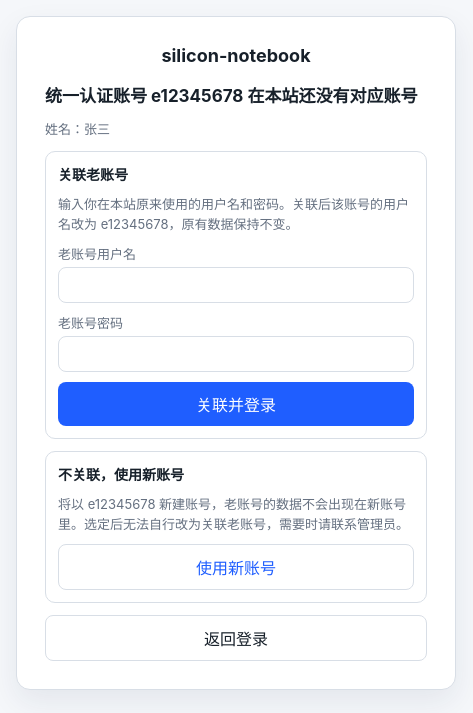
Test: link: the button shows progress and every action is locked while it runs
Type "a12345678" into the field labelled "老账号用户名" at (236, 285), box top-left (58, 267), bottom-right (414, 303)
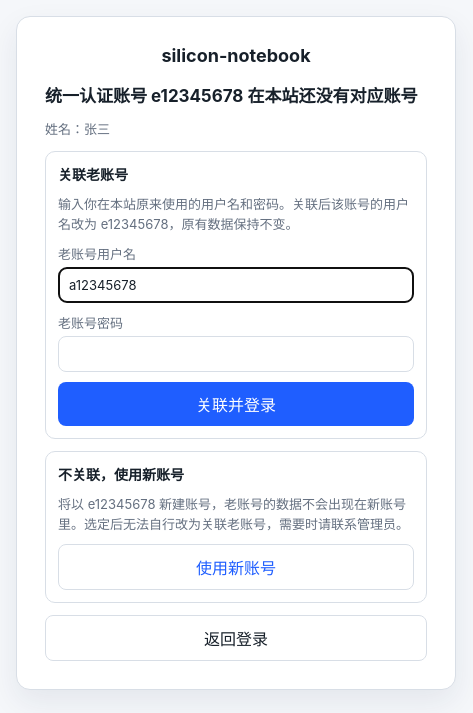
Type "pw" into the password field labelled "老账号密码" at (236, 354), box top-left (58, 336), bottom-right (414, 372)
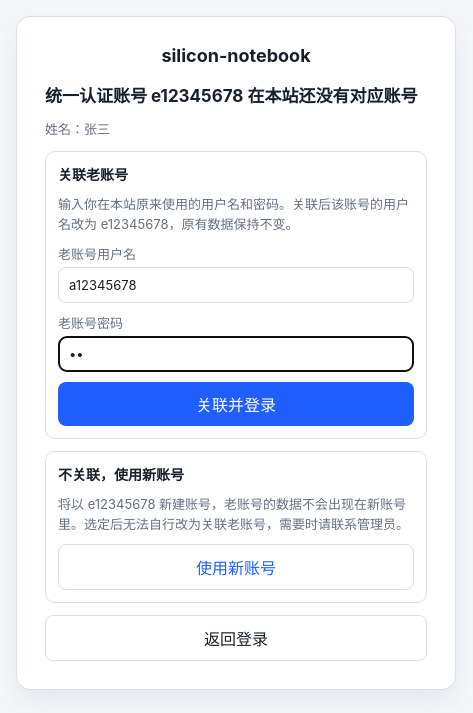
Click the button "关联并登录" at (236, 404), box top-left (58, 382), bottom-right (414, 426)
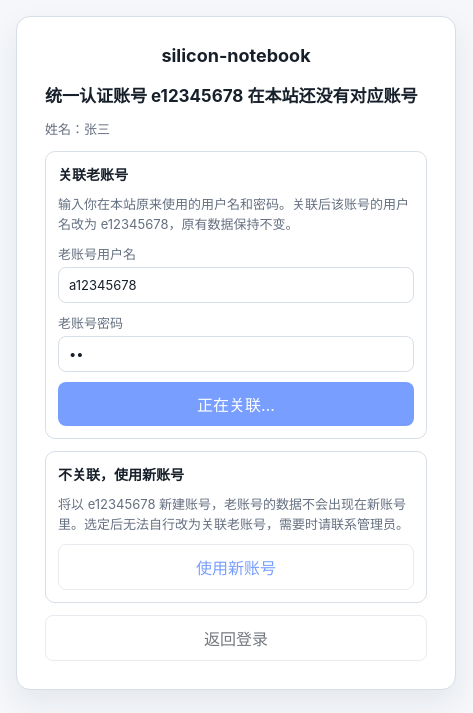
expect the button "正在关联…" is disabled: met, box top-left (58, 382), bottom-right (414, 426)
expect the button "使用新账号" is disabled: met, box top-left (58, 544), bottom-right (414, 590)
expect the button "返回登录" is disabled: met, box top-left (45, 615), bottom-right (427, 661)
